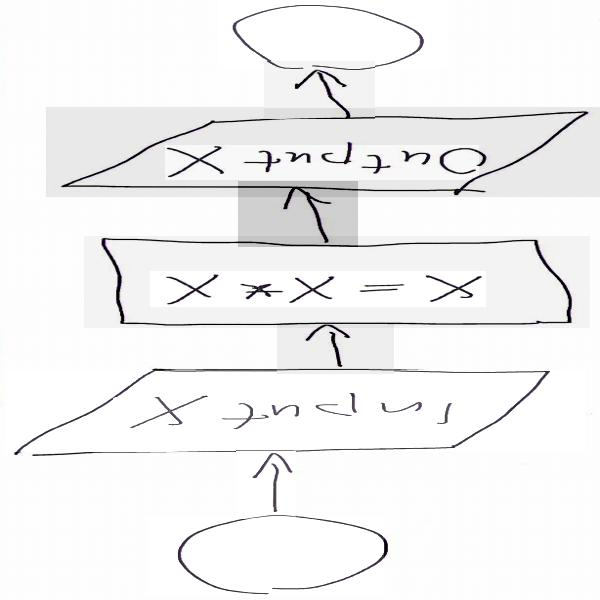arrow: (238, 181, 358, 247), (264, 60, 375, 118), (277, 323, 394, 374), (236, 445, 296, 519)
data: (46, 107, 600, 196), (6, 370, 585, 452)
process: (84, 236, 590, 328)
terminator: (147, 516, 384, 596), (218, 0, 447, 70)
text: (113, 397, 466, 434), (150, 271, 486, 307), (165, 145, 479, 180)
